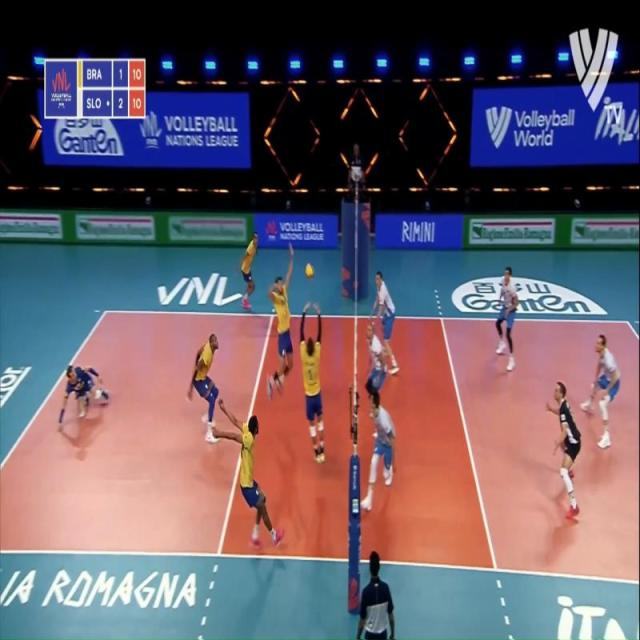volleyball: (304, 262, 315, 279)
